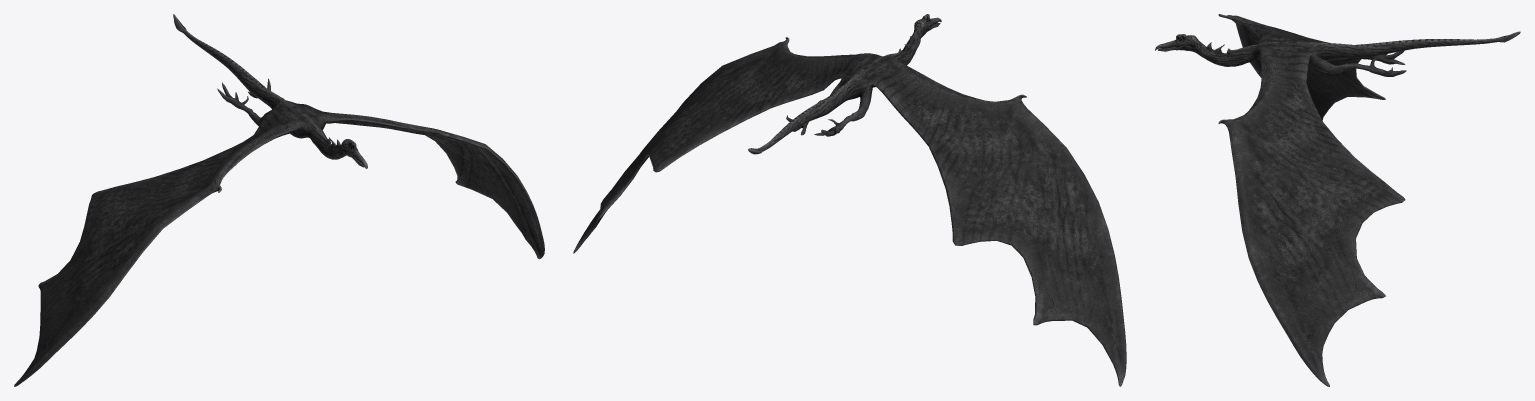
File: Fellbeast_FlyAnim_34.obj
3 renders of one model, left to right at view 1: azimuth 30°, elevation 25°; view 2: azimuth 150°, elevation 25°; view 3: azimuth 270°, elevation 25°, orthographic. The views are drawn at different scales.
Parts seen in each view (by area): view 1: Fellbeast; view 2: Fellbeast; view 3: Fellbeast.
Part boxes in pixels (x1,y1,x2,y2): Fellbeast: (14,14,544,386); Fellbeast: (573,14,1126,386); Fellbeast: (1155,14,1520,386).
Bounding box in the file's own units: 7.04 × 3.04 × 4.39.
